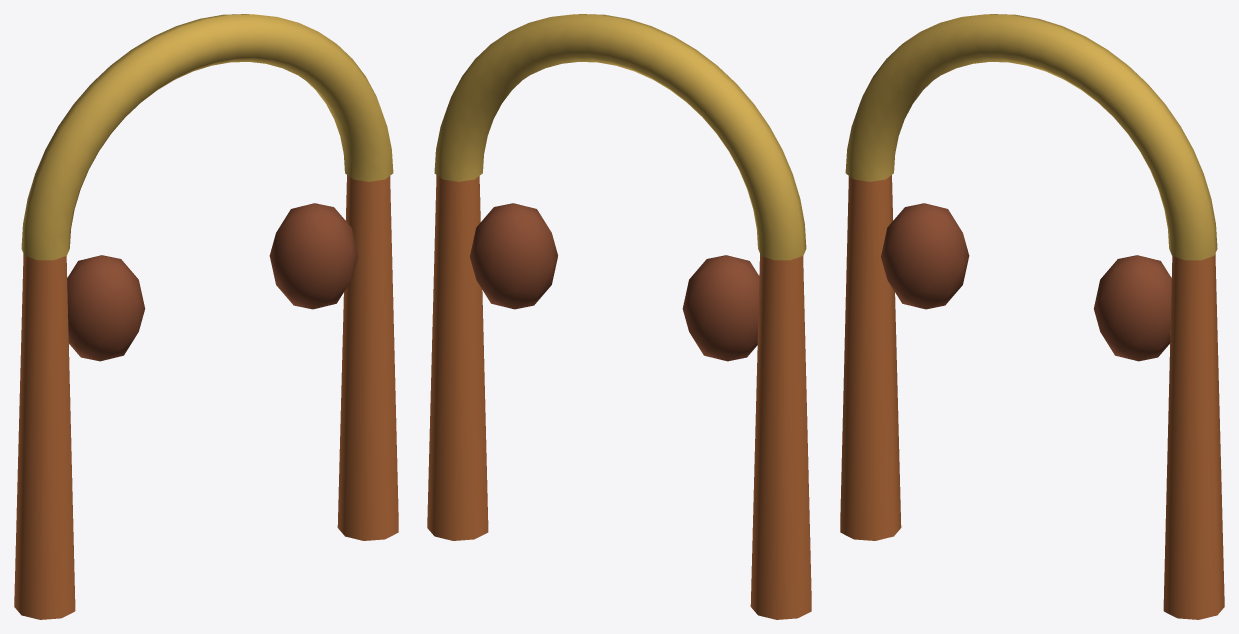
File: lantern_gate.glb
The picture shows the model from 3 angles, left to right: view 1: azimuth 30°, elevation 25°; view 2: azimuth 150°, elevation 25°; view 3: azimuth 330°, elevation 25°; orthographic projection.
Parts seen in each view (by area): view 1: gate_arch, gate_post_-1, gate_post_1, gate_lantern_1, gate_lantern_-1; view 2: gate_arch, gate_post_-1, gate_post_1, gate_lantern_1, gate_lantern_-1; view 3: gate_arch, gate_post_1, gate_post_-1, gate_lantern_-1, gate_lantern_1.
Boxes of the visible parts, box(x1,y1,x2,y2) form: gate_arch: box(21, 14, 393, 260); gate_post_-1: box(14, 254, 75, 619); gate_post_1: box(337, 175, 398, 540); gate_lantern_1: box(269, 203, 357, 309); gate_lantern_-1: box(67, 255, 145, 361); gate_arch: box(434, 14, 806, 260); gate_post_-1: box(750, 254, 811, 619); gate_post_1: box(427, 175, 488, 540); gate_lantern_1: box(470, 203, 557, 309); gate_lantern_-1: box(682, 255, 759, 361); gate_arch: box(845, 14, 1217, 260); gate_post_1: box(1163, 254, 1224, 619); gate_post_-1: box(840, 175, 901, 540); gate_lantern_-1: box(881, 203, 969, 309); gate_lantern_1: box(1093, 255, 1171, 361).
Size of what is drawn, in the model's own units: 4.43 by 6.15 by 0.9.
